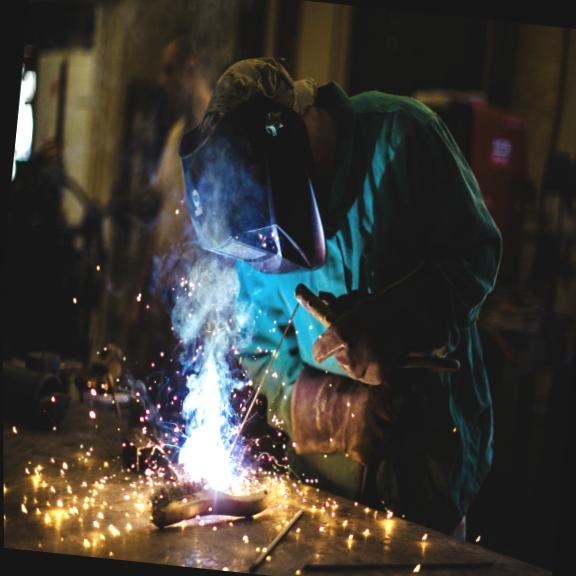no_safety_vest: (212, 58, 512, 448)
